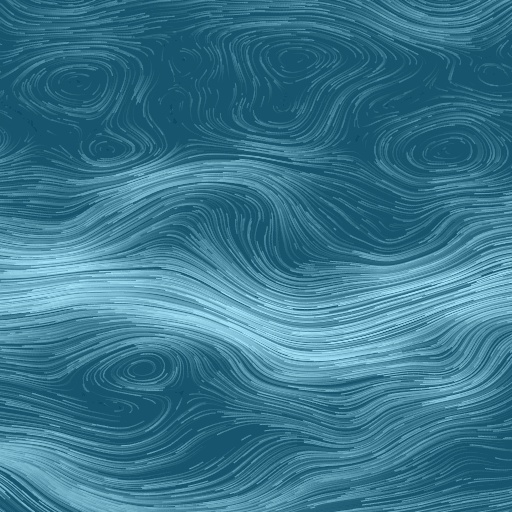eddy: (232, 26, 347, 133), (386, 112, 508, 184), (13, 49, 130, 121), (100, 344, 183, 394), (78, 132, 140, 173), (477, 60, 511, 89)
